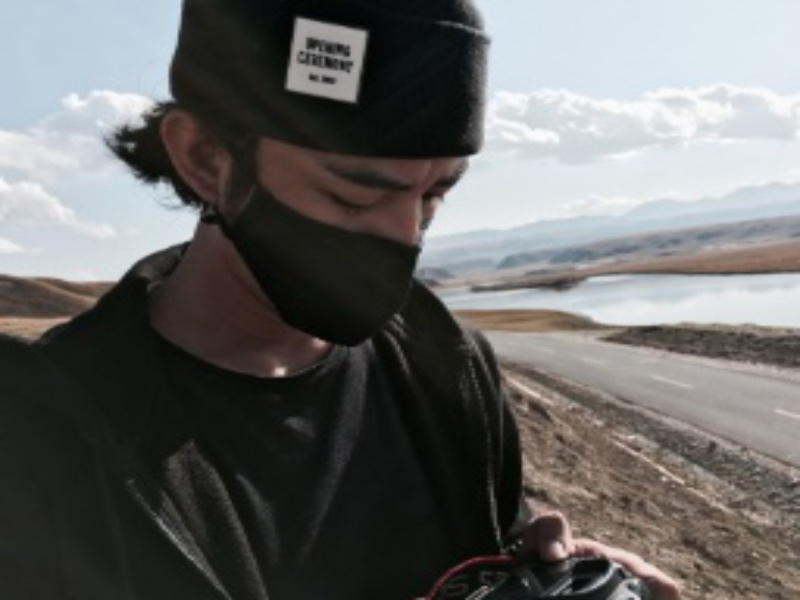ManaoArotava: (148, 10, 476, 361)
